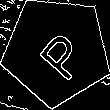P_NW: (26, 20, 87, 81)
